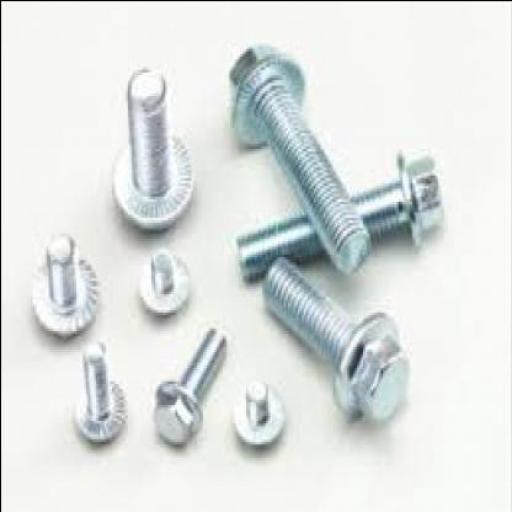metal: (222, 40, 368, 266), (227, 153, 443, 278), (257, 246, 405, 425), (111, 53, 192, 221), (150, 325, 224, 443), (26, 227, 95, 335), (71, 338, 127, 441), (229, 369, 281, 441), (136, 246, 188, 314)
